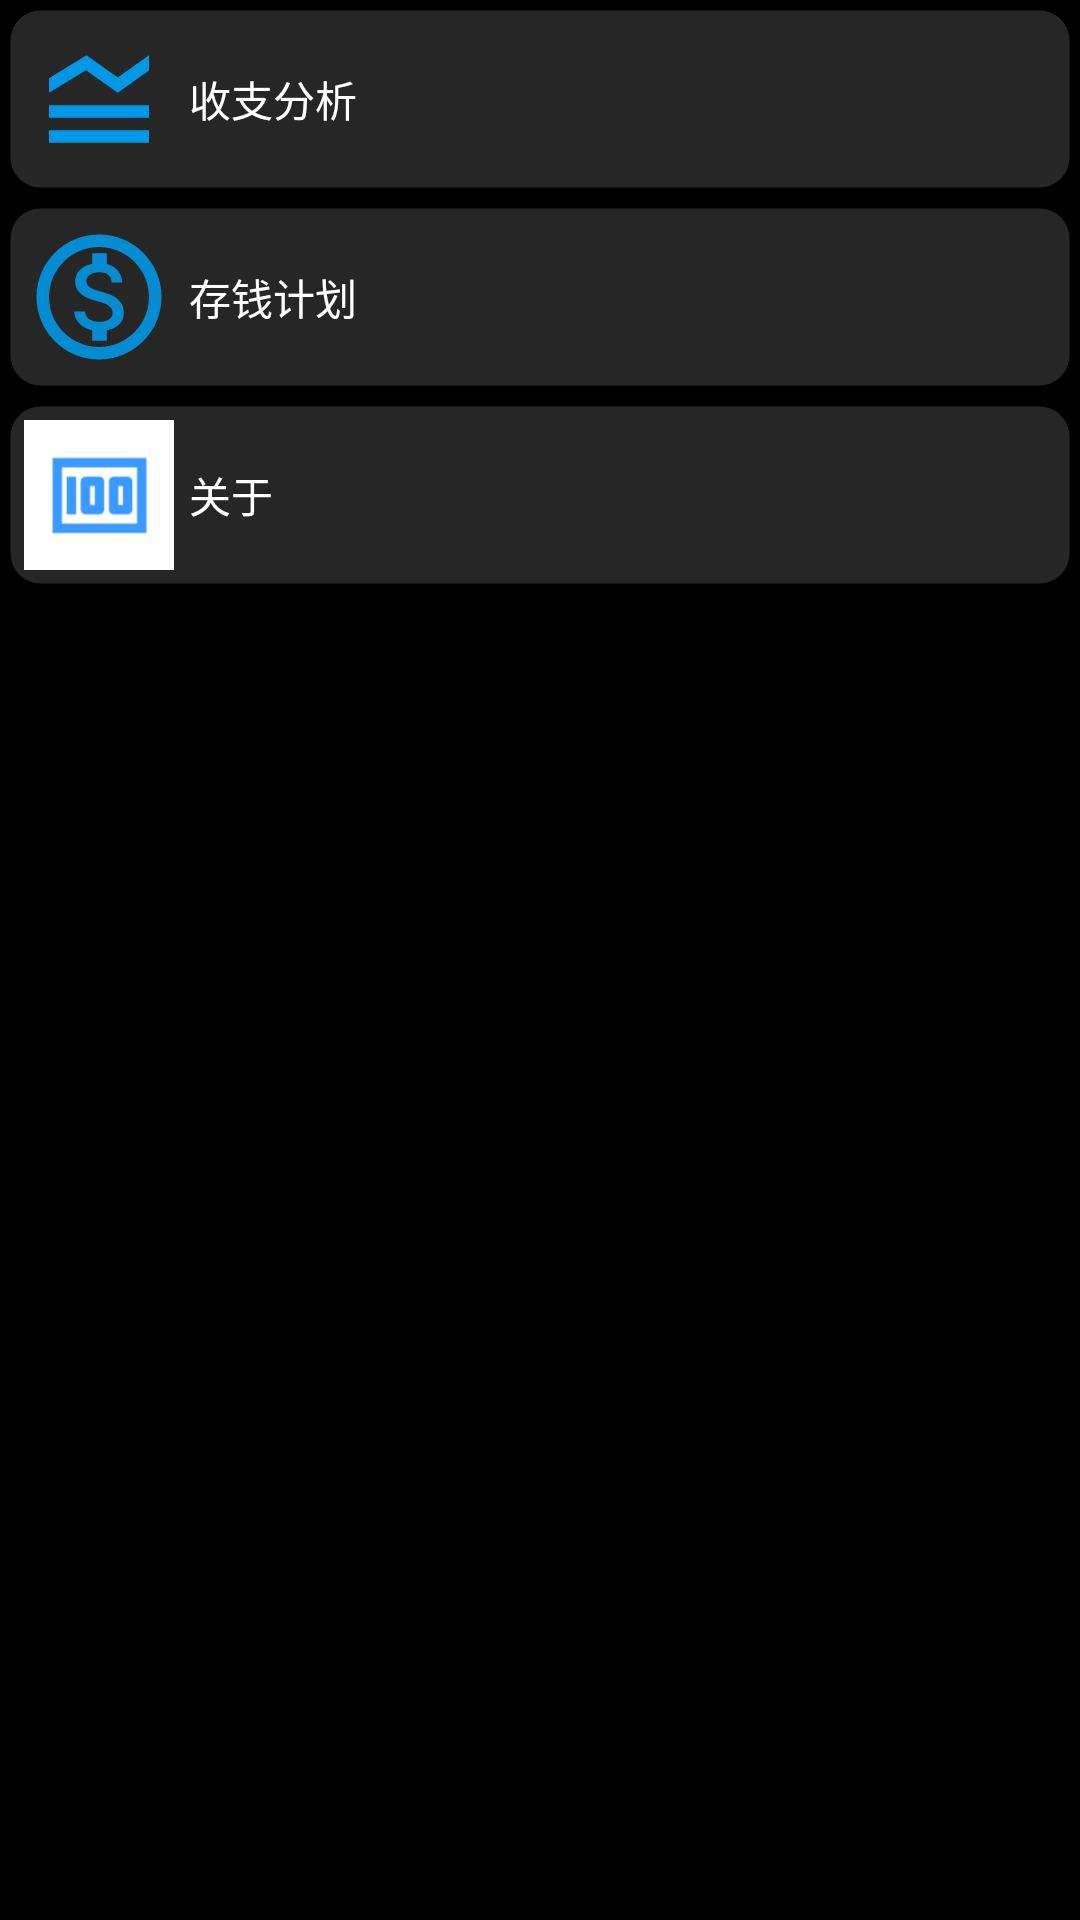

Icons on this 1080px×1920px Android screen, each with the point to tap as (x,y):
cost analysis: (99,99)
